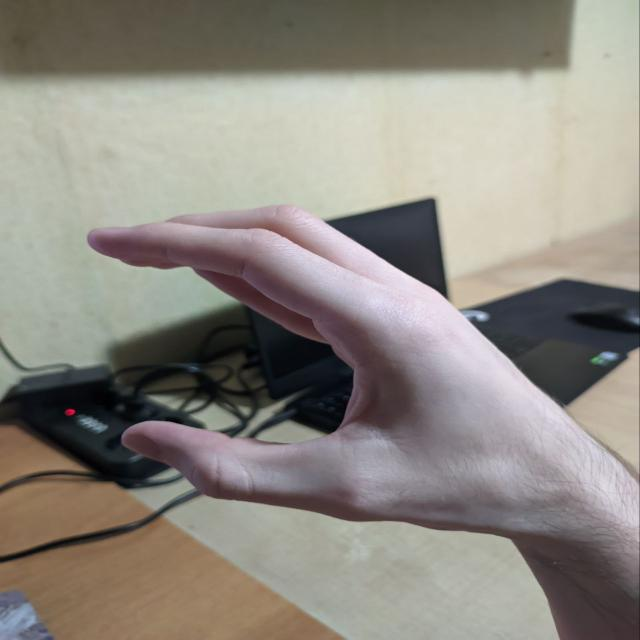s: (34, 160, 564, 562)
